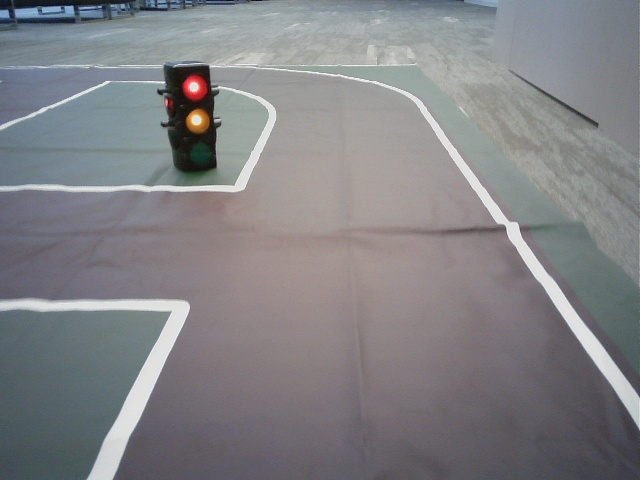red: (178, 68, 212, 168)
